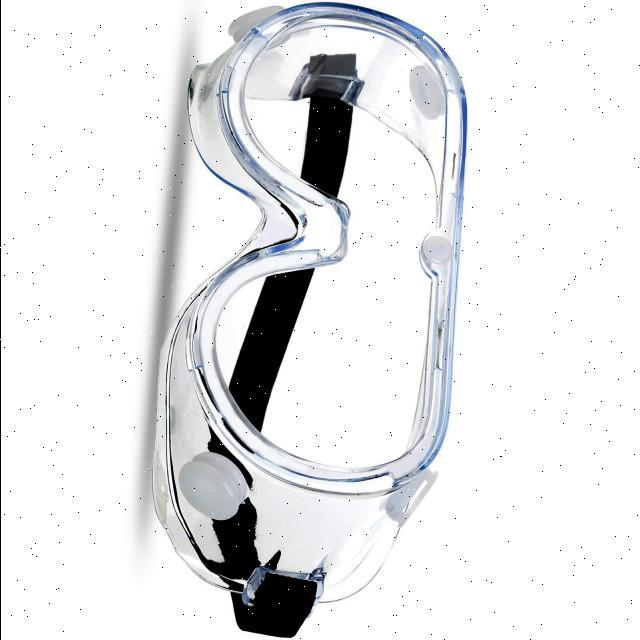Goggles: (112, 3, 512, 640)
